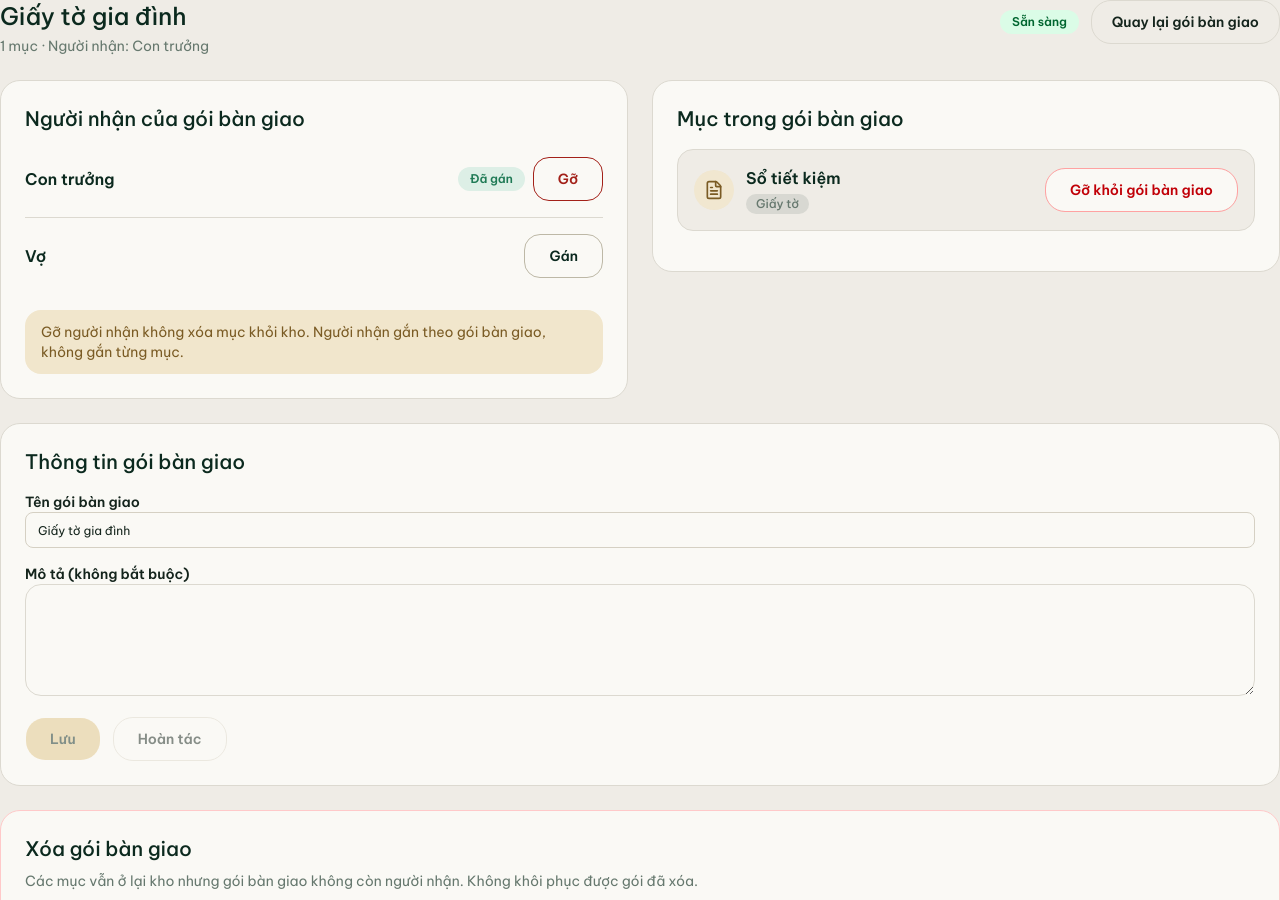
Test: chi tiết gói bàn giao › khung thông tin gói không có ô đồng ý; Lưu và Hoàn tác chỉ bật khi đã sửa
Check: the button "Lưu" is disabled, box top-left (25, 717), bottom-right (101, 761)
Check: the button "Hoàn tác" is disabled, box top-left (113, 717), bottom-right (226, 761)
Replace the text in the field labelled "Tên gói bàn giao" with "Tên mới" at (640, 530), box top-left (25, 512), bottom-right (1255, 548)
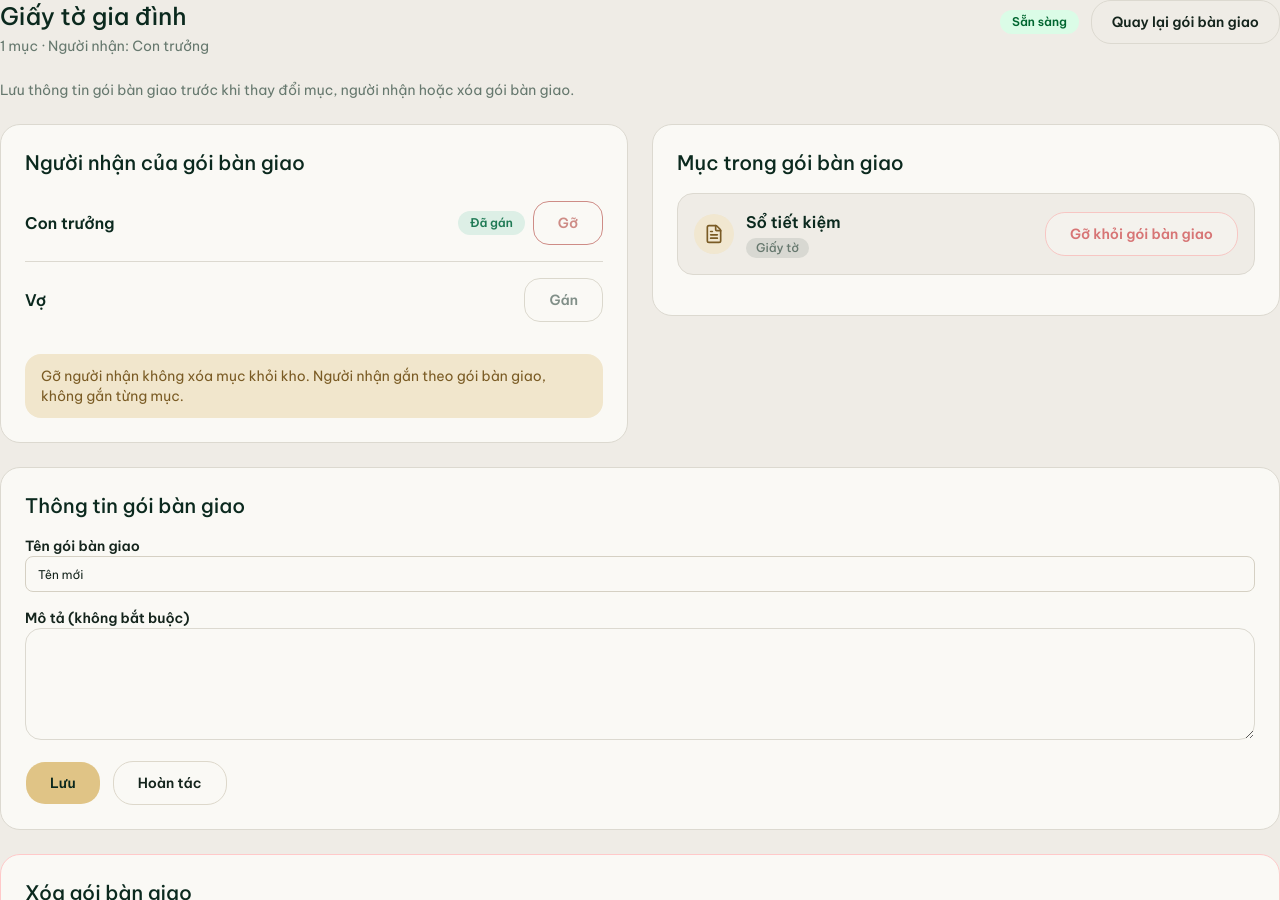
Check: the button "Lưu" is enabled
Click the button "Lưu" at (63, 783), box top-left (25, 761), bottom-right (101, 805)
(page scrolled)
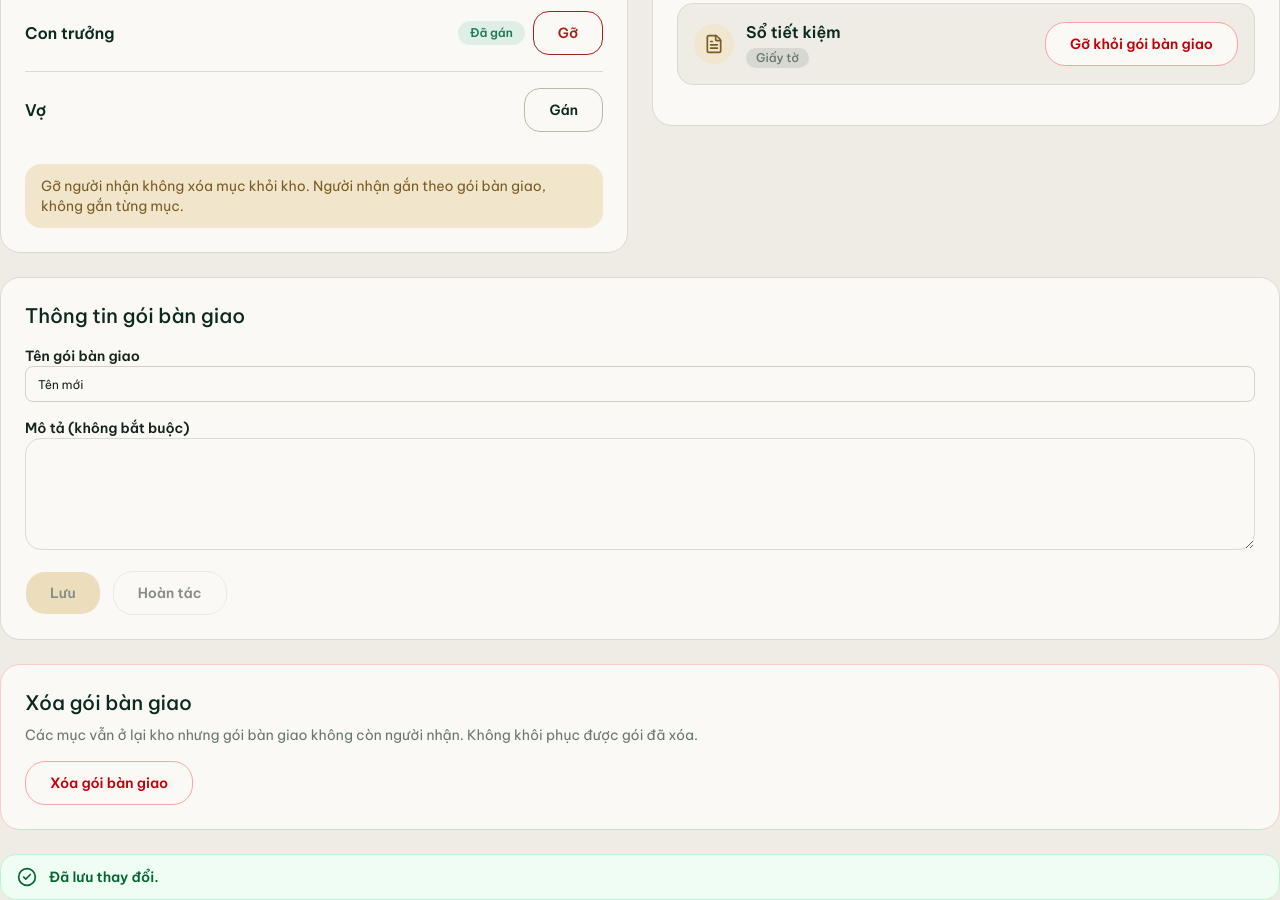
Check: the text "Đã lưu thay đổi." is shown, box top-left (0, 854), bottom-right (1279, 899)
